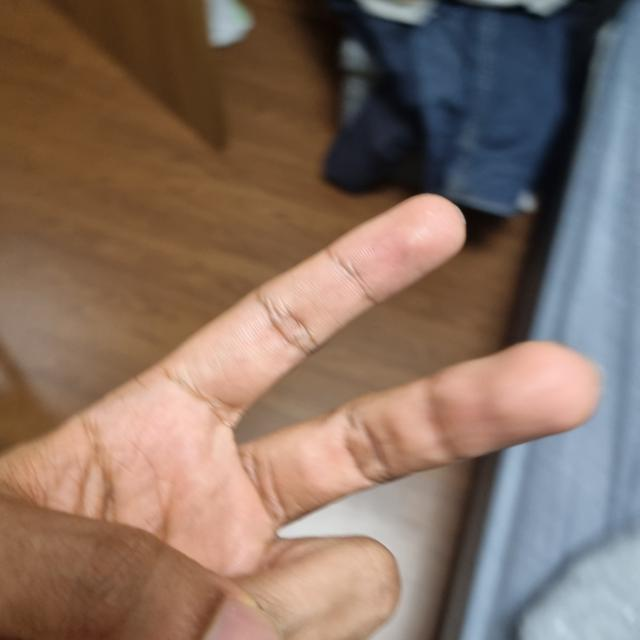Scissors: (0, 195, 600, 639)
